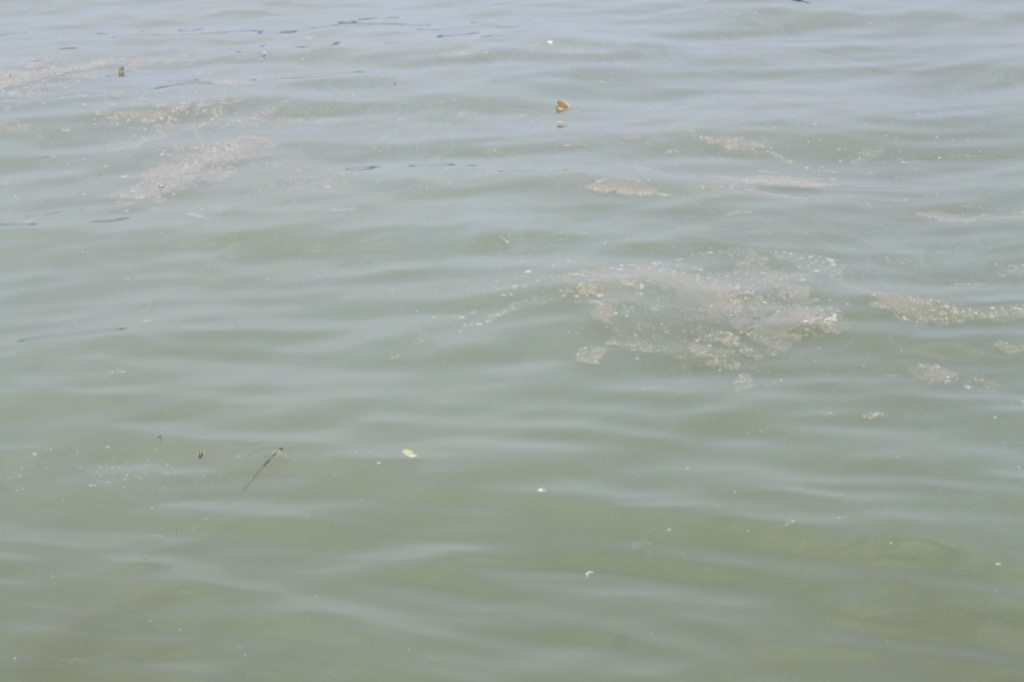organic: (233, 440, 288, 500), (254, 44, 276, 70), (189, 444, 212, 466)
plastic: (542, 92, 577, 137), (391, 437, 430, 475), (105, 61, 141, 92), (576, 554, 603, 589), (542, 25, 565, 56), (524, 477, 549, 501)
